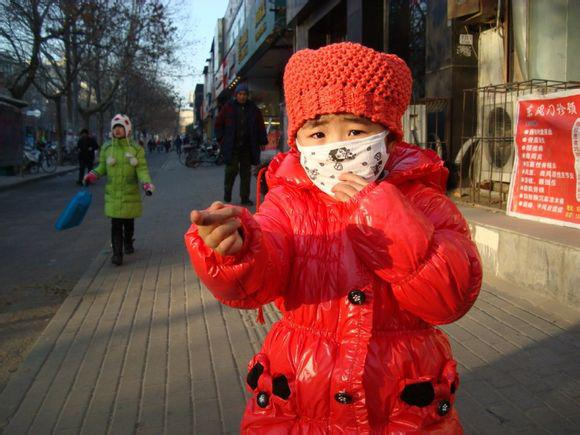NONE: (115, 127, 125, 139), (239, 92, 248, 104)
OK: (299, 110, 388, 199)
